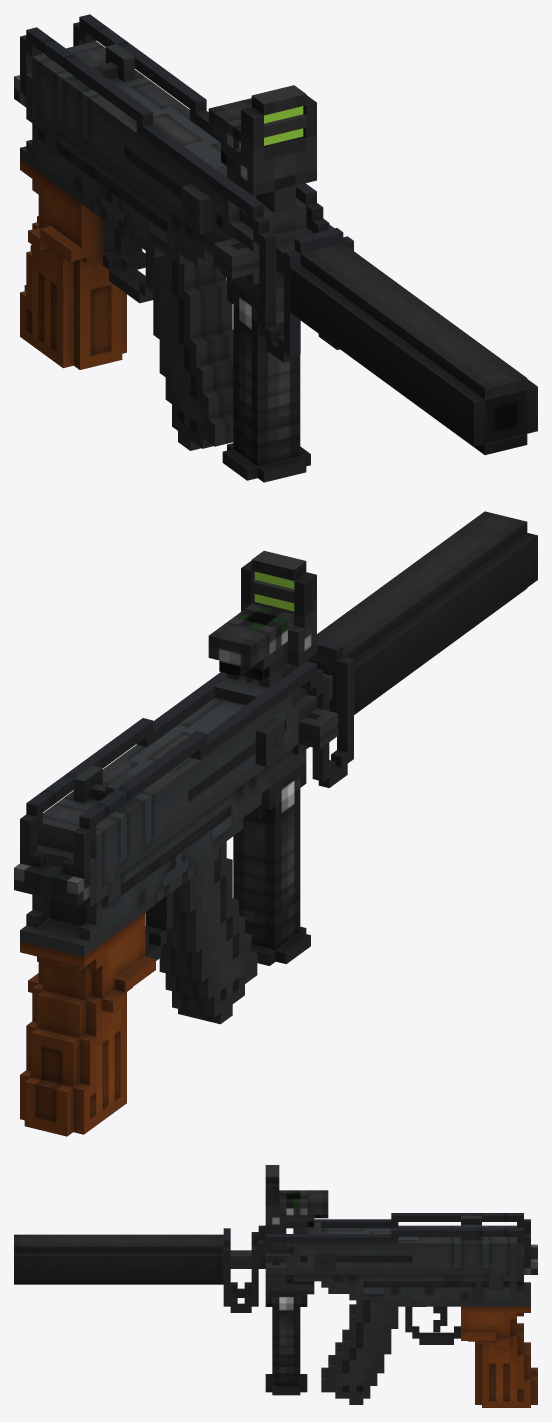
The model's file is RD_SCORPION.glb.
3 views of the same model, one above another, from view 1: azimuth 30°, elevation 25°; view 2: azimuth 150°, elevation 25°; view 3: azimuth 270°, elevation 25° (orthographic). The views are drawn at different scales.
Parts seen in each view (by area): view 1: SCORPION_VZ61, SILENCER_6X6, SCORPION_VZ61_BUTT_STOCK, SCORPION_VZ61_CLIP, GRIP1, SCOPE_AIMPOINT, SCORPION_VZ61_PLANK, SCOPE_TRIJICON, SCORPION_VZ61_BOLT; view 2: SCORPION_VZ61, SILENCER_6X6, SCORPION_VZ61_BUTT_STOCK, SCORPION_VZ61_CLIP, GRIP1, SCOPE_AIMPOINT, SCORPION_VZ61_PLANK, SCOPE_TRIJICON, SCORPION_VZ61_BOLT; view 3: SCORPION_VZ61, SILENCER_6X6, SCORPION_VZ61_BUTT_STOCK, SCORPION_VZ61_CLIP, GRIP1, SCOPE_AIMPOINT, SCORPION_VZ61_PLANK, SCOPE_TRIJICON, SCORPION_VZ61_BOLT.
Part boxes in pixels (box(x1,y1,x2,y2)): SCORPION_VZ61: box(14, 41, 306, 369); SILENCER_6X6: box(290, 243, 537, 454); SCORPION_VZ61_BUTT_STOCK: box(20, 14, 353, 362); SCORPION_VZ61_CLIP: box(147, 252, 233, 450); GRIP1: box(222, 278, 310, 482); SCOPE_AIMPOINT: box(208, 85, 316, 193); SCORPION_VZ61_PLANK: box(213, 185, 334, 312); SCOPE_TRIJICON: box(227, 114, 316, 195); SCORPION_VZ61_BOLT: box(181, 184, 210, 233); SCORPION_VZ61: box(14, 668, 332, 1136); SILENCER_6X6: box(301, 511, 537, 714); SCORPION_VZ61_BUTT_STOCK: box(20, 639, 353, 902); SCORPION_VZ61_CLIP: box(159, 841, 257, 1024); GRIP1: box(233, 761, 310, 965); SCOPE_AIMPOINT: box(208, 550, 316, 681); SCORPION_VZ61_PLANK: box(263, 663, 338, 792); SCOPE_TRIJICON: box(241, 580, 316, 676); SCORPION_VZ61_BOLT: box(255, 717, 284, 766); SCORPION_VZ61: box(230, 1215, 537, 1407); SILENCER_6X6: box(14, 1234, 223, 1284); SCORPION_VZ61_BUTT_STOCK: box(223, 1213, 537, 1312); SCORPION_VZ61_CLIP: box(321, 1300, 398, 1404); GRIP1: box(265, 1291, 307, 1395); SCOPE_AIMPOINT: box(265, 1165, 328, 1227); SCORPION_VZ61_PLANK: box(265, 1230, 314, 1294); SCOPE_TRIJICON: box(265, 1199, 303, 1230); SCORPION_VZ61_BOLT: box(314, 1249, 335, 1271).
Bounding box in the file's own units: 0.0984 × 0.3542 × 0.738.
7 materials, 7 textured.
